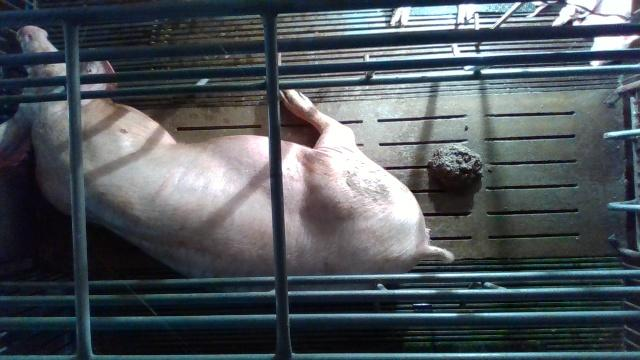piglet: (573, 0, 640, 67)
sow-sit: (1, 25, 456, 293)
